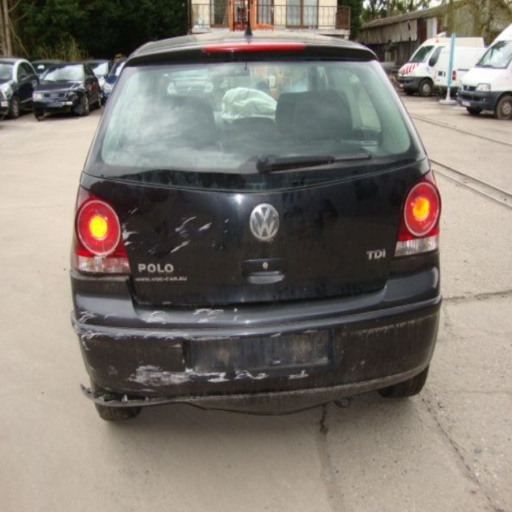rust: (286, 340, 314, 364), (213, 349, 234, 368)
scratch: (124, 364, 231, 393), (142, 331, 241, 341), (80, 330, 112, 351), (192, 307, 224, 324), (121, 221, 139, 248), (174, 215, 197, 231), (76, 309, 97, 325), (144, 310, 167, 324), (234, 370, 268, 379), (169, 240, 190, 254), (112, 332, 137, 340), (288, 370, 308, 379), (73, 324, 86, 337), (103, 312, 120, 320), (107, 365, 118, 377), (301, 328, 317, 336), (198, 222, 212, 231), (269, 332, 281, 340), (146, 245, 156, 254), (88, 364, 97, 373), (130, 207, 138, 216), (271, 360, 281, 365), (232, 316, 239, 323), (179, 229, 187, 235), (230, 309, 238, 315), (181, 233, 187, 239), (224, 217, 229, 224), (210, 240, 215, 247), (162, 301, 171, 304), (223, 229, 228, 234), (219, 244, 223, 250), (138, 241, 144, 245), (174, 345, 181, 348), (130, 247, 134, 251)
